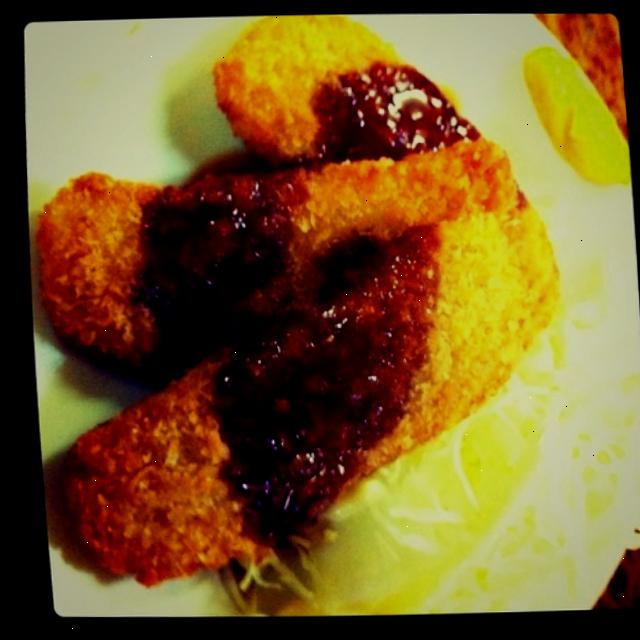炸货点心: (13, 16, 617, 617)
